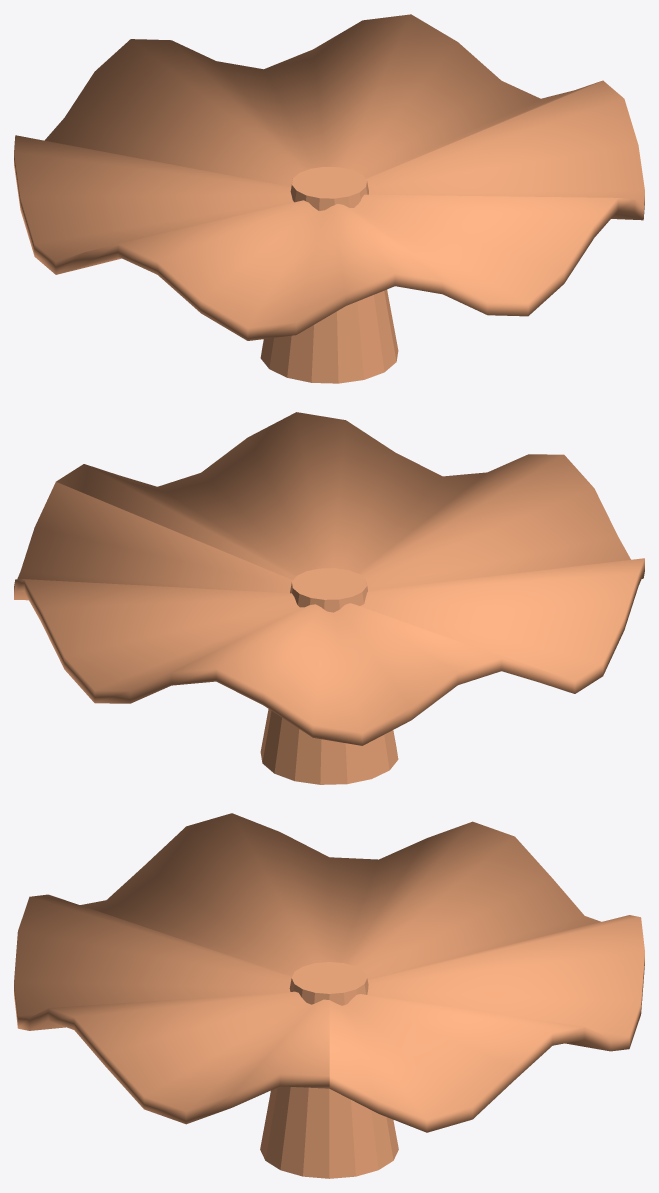
Rendered from table-coral.001.fbx.
3 renders of one model, top to bottom at view 1: azimuth 30°, elevation 25°; view 2: azimuth 150°, elevation 25°; view 3: azimuth 270°, elevation 25°, orthographic.
Visible parts, largest first — view 1: table-coral.001; view 2: table-coral.001; view 3: table-coral.001.
Boxes of the visible parts, box(x1,y1,x2,y2) form: table-coral.001: box(14, 14, 644, 383); table-coral.001: box(14, 412, 644, 784); table-coral.001: box(14, 813, 644, 1178).
Size of the model in its own units: 200 by 73.98 by 200.
